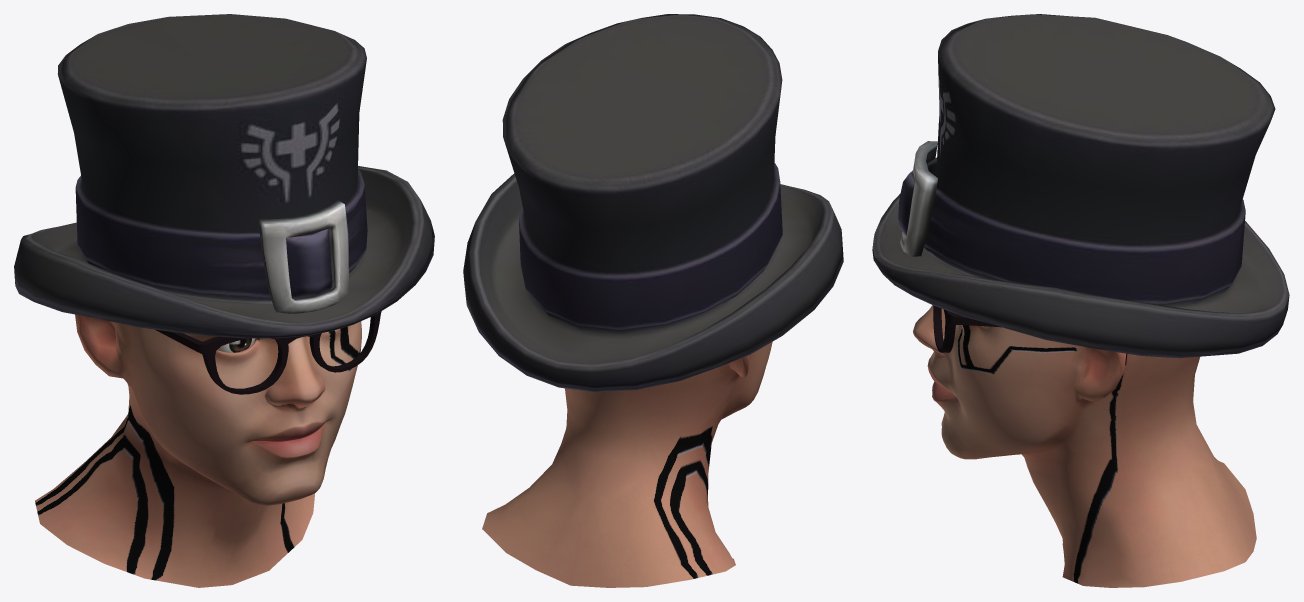
File: avatarC.glb
3 views of the same model, side by side, from view 1: azimuth 30°, elevation 25°; view 2: azimuth 150°, elevation 25°; view 3: azimuth 270°, elevation 25° (orthographic). The views are drawn at different scales.
Parts seen in each view (by area): view 1: Wolf3D_Head; view 2: Wolf3D_Head; view 3: Wolf3D_Head.
Boxes of the visible parts, <box> form: Wolf3D_Head: <box>14,14,434,587</box>; Wolf3D_Head: <box>463,14,843,587</box>; Wolf3D_Head: <box>872,14,1289,587</box>.
Size of the model in its own units: 0.268 by 0.3755 by 0.2732.
5 materials, 5 textured.
